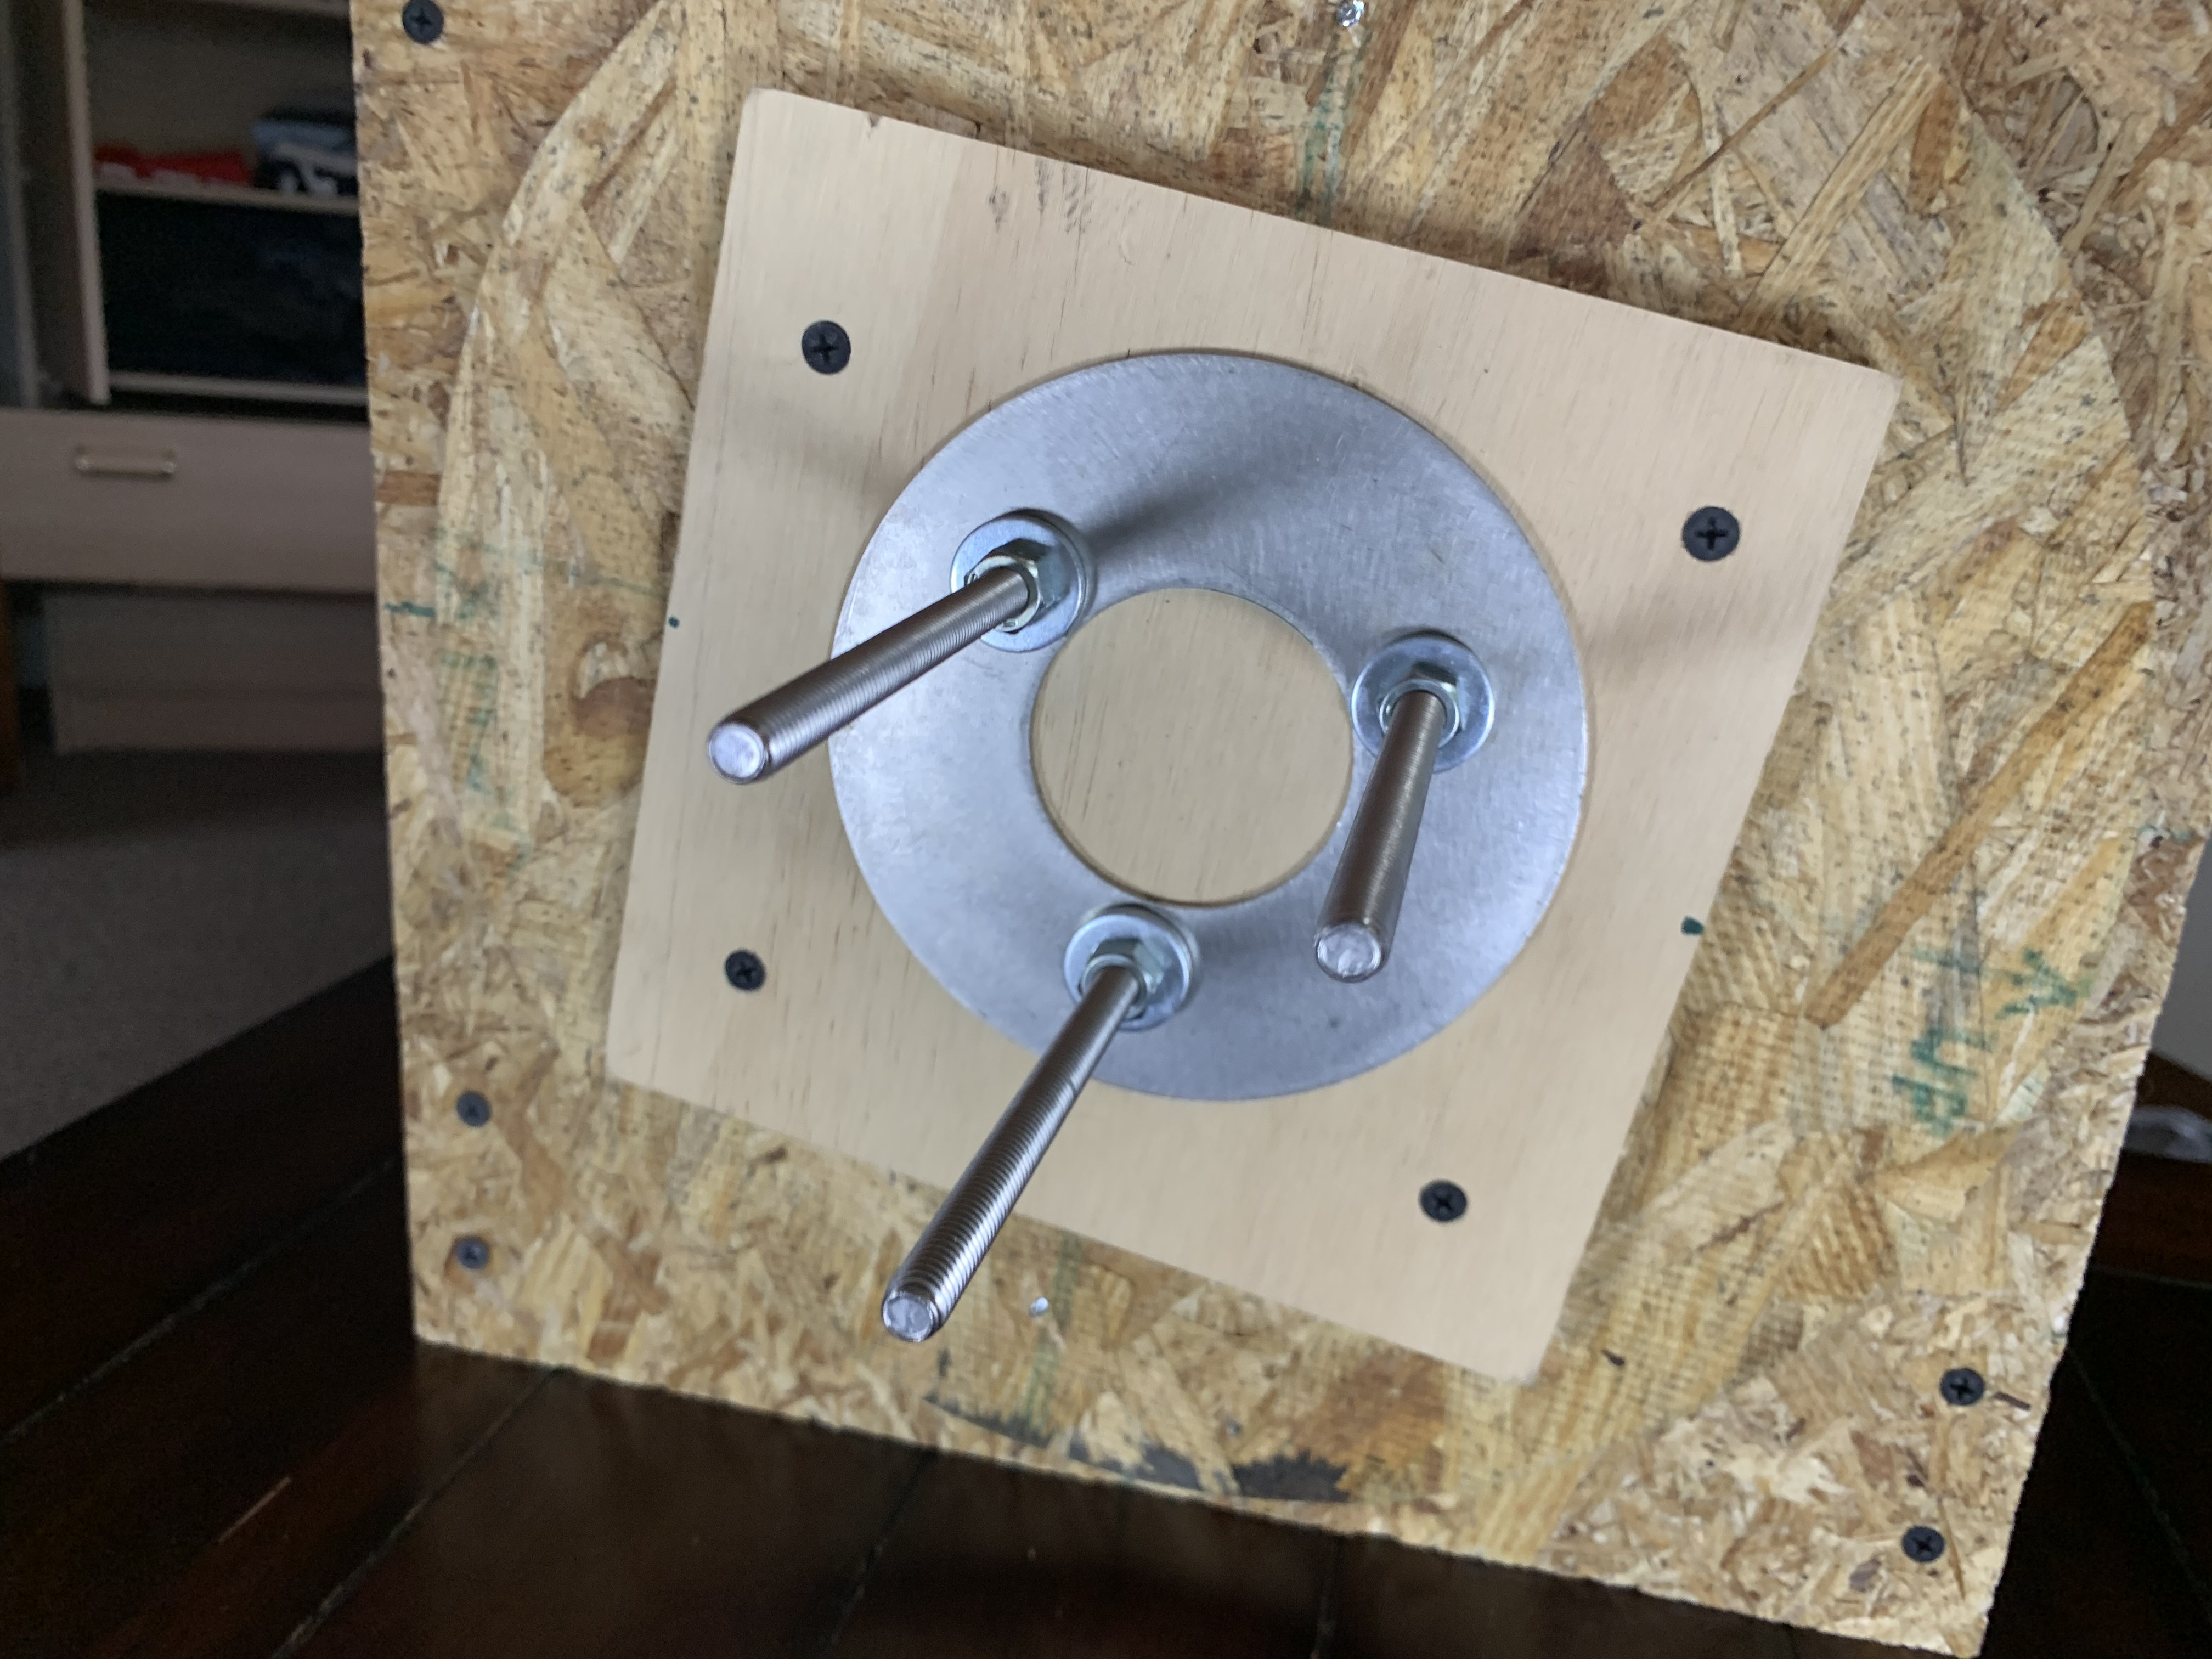bolt: (1348, 629, 1500, 781), (946, 509, 1101, 653), (1064, 903, 1197, 1033)
